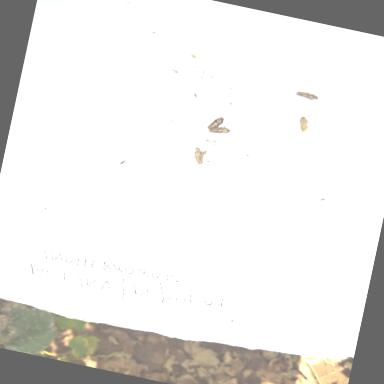pbw: (289, 84, 322, 108), (291, 113, 318, 139), (186, 144, 212, 169), (204, 112, 227, 134), (205, 122, 233, 140)
